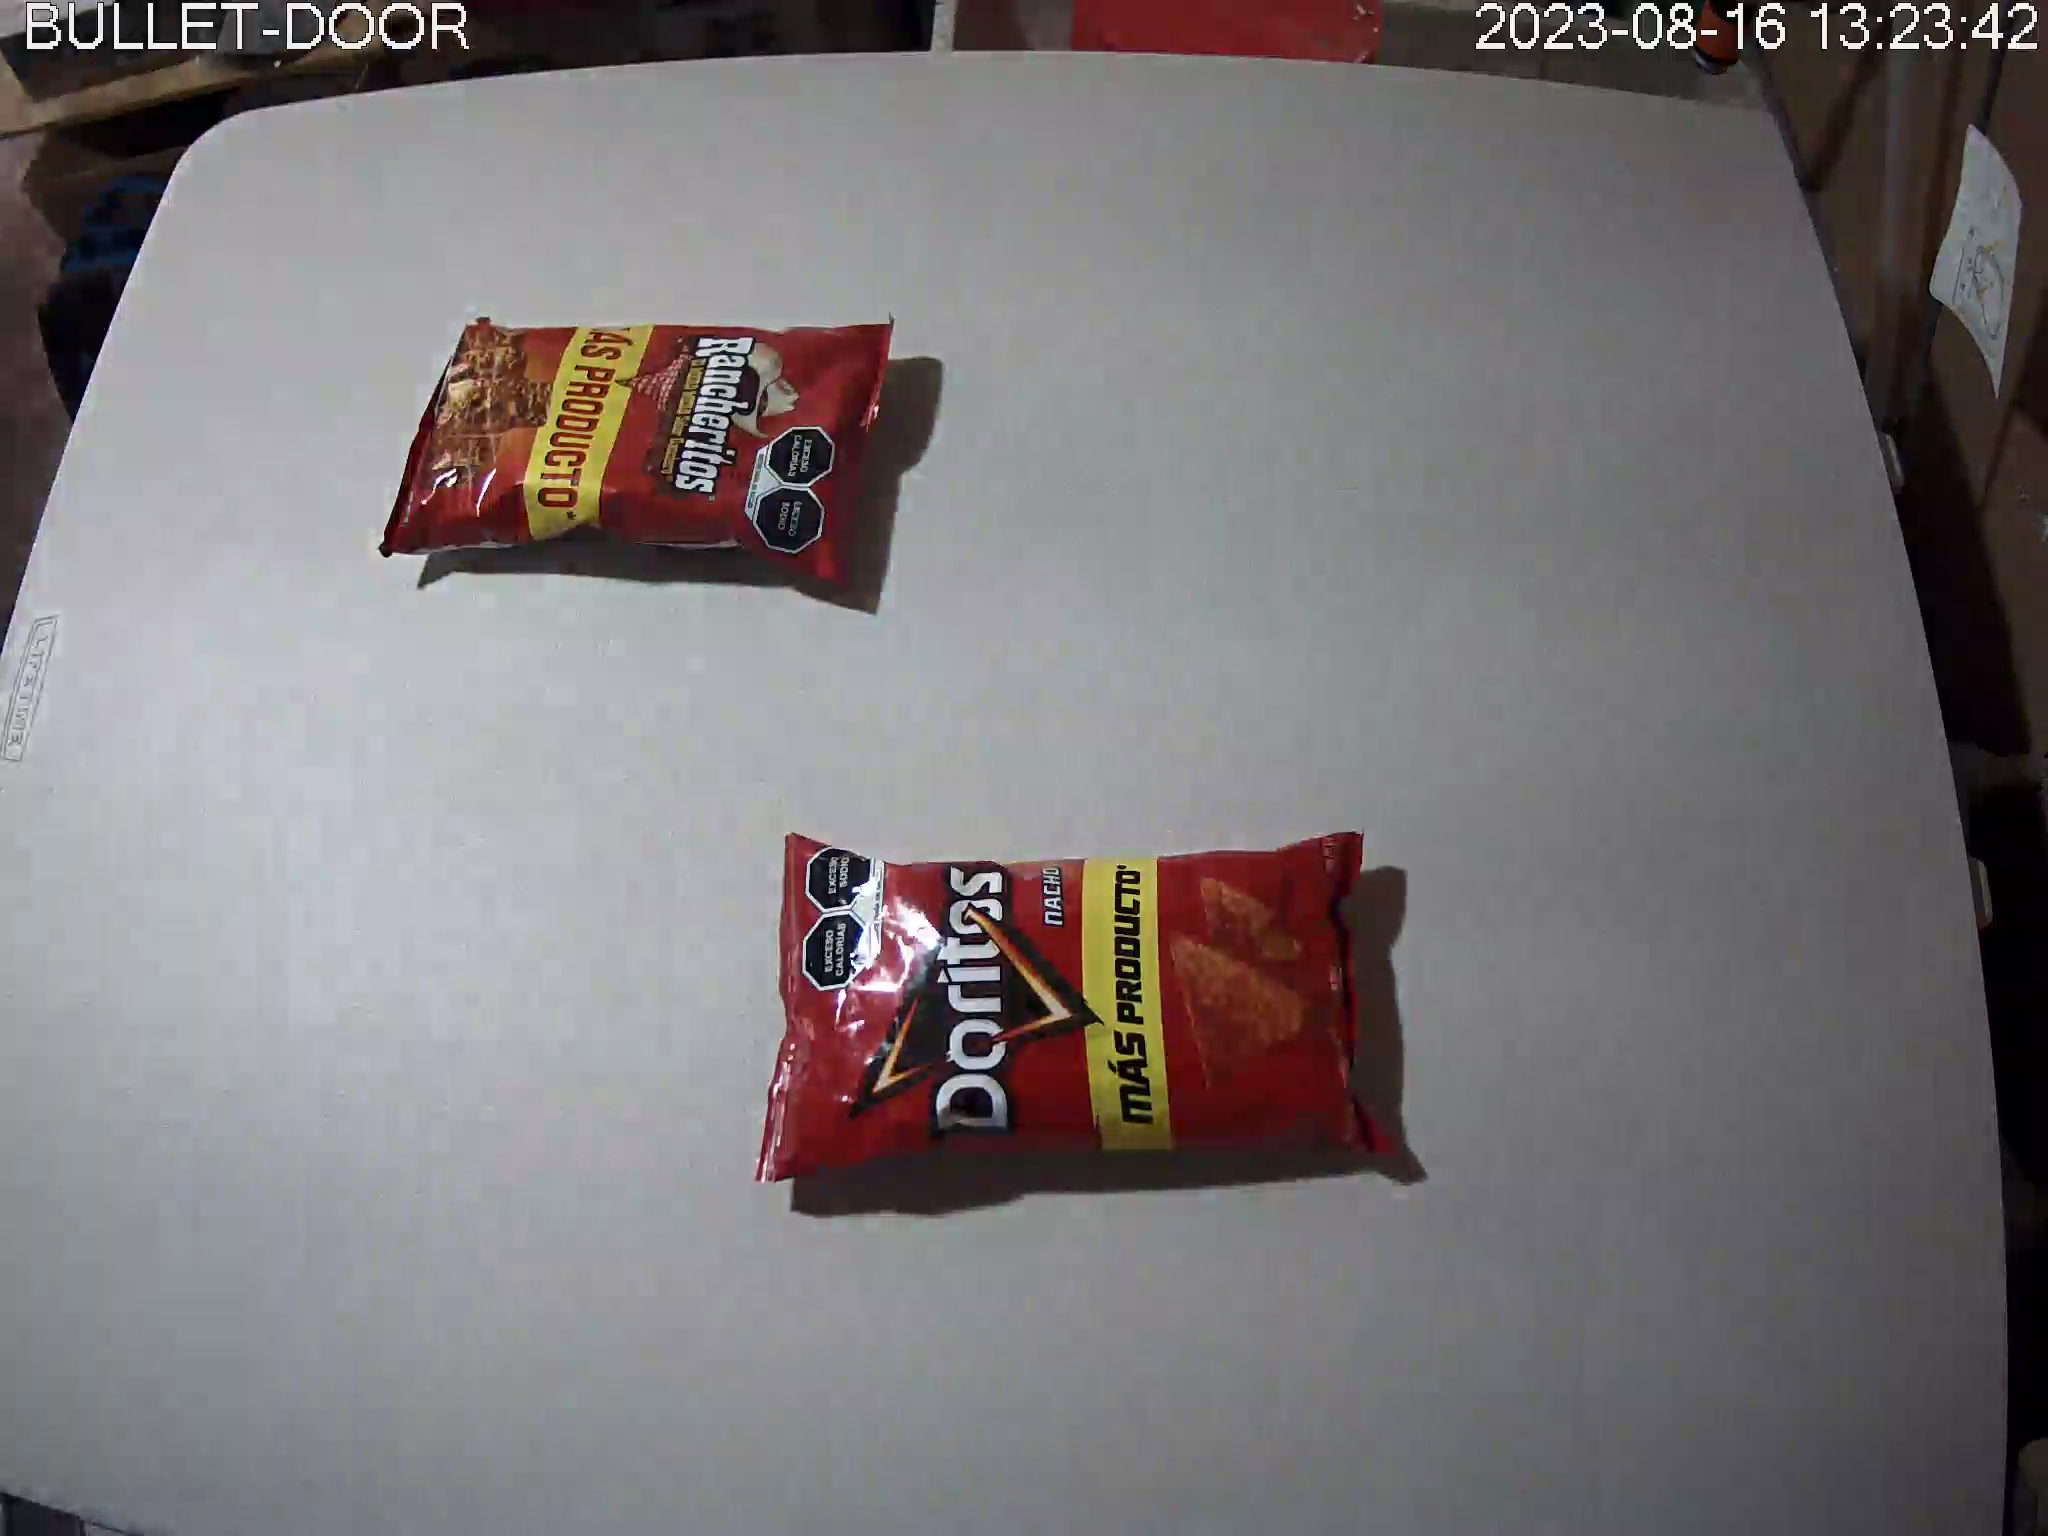DoritosN_61_F: (753, 833, 1398, 1179)
Rancheritos_58_F: (377, 307, 892, 597)
